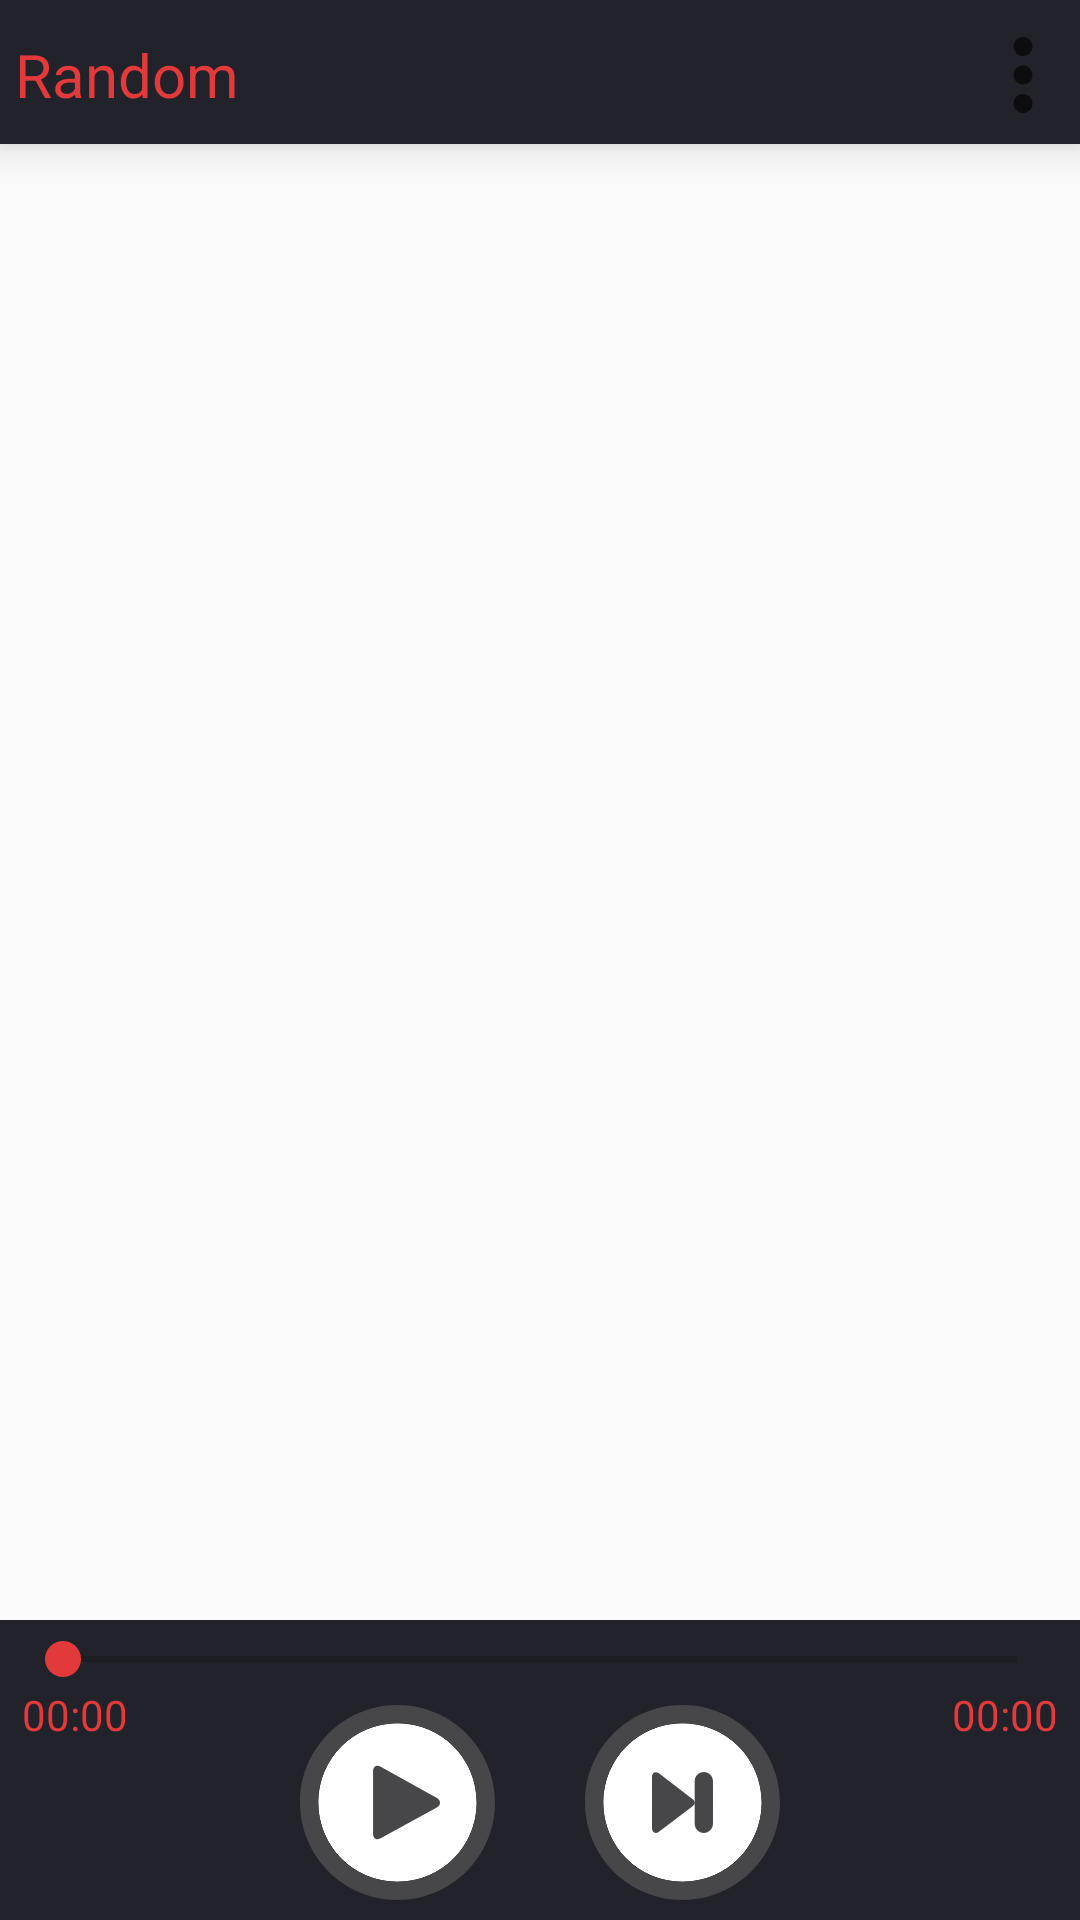

Locate icon controls on the screen. Image size 1080 x 1920, boxes as (x1, y1, x2, y2).
more vert: (1014, 37, 1032, 113)
